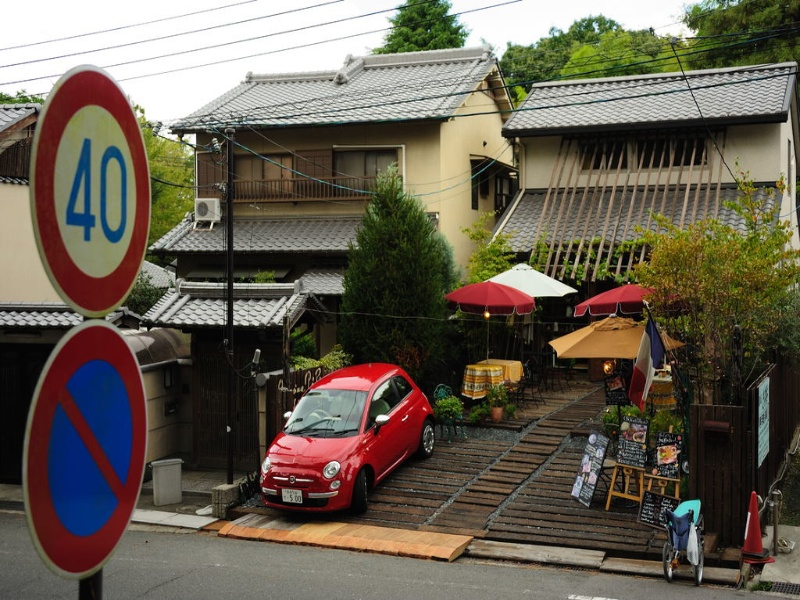no_entry: (13, 320, 166, 582)
speed_limit_40: (29, 64, 154, 320)
